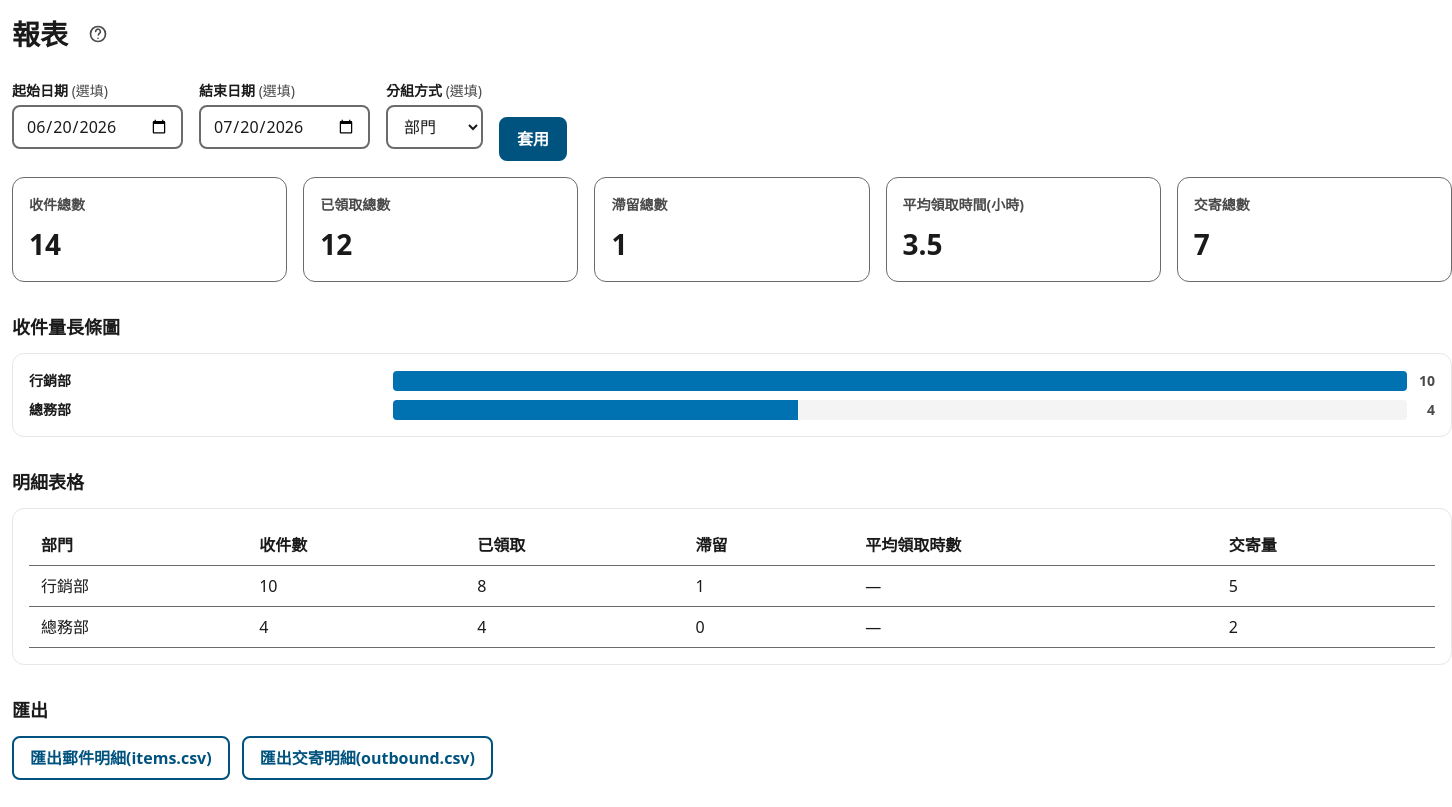
Test: ReportsPage › switching group_by re-queries the summary and re-renders the chart/table for the new grouping
Expected: the number of elements with class "reports-page__bar-row" is 2, [29,370,1435,391]; [29,399,1435,420]
Select "承運商" in the dropdown labelled "分組方式 (選填)" at x=434, y=127, box [386,105,483,149]
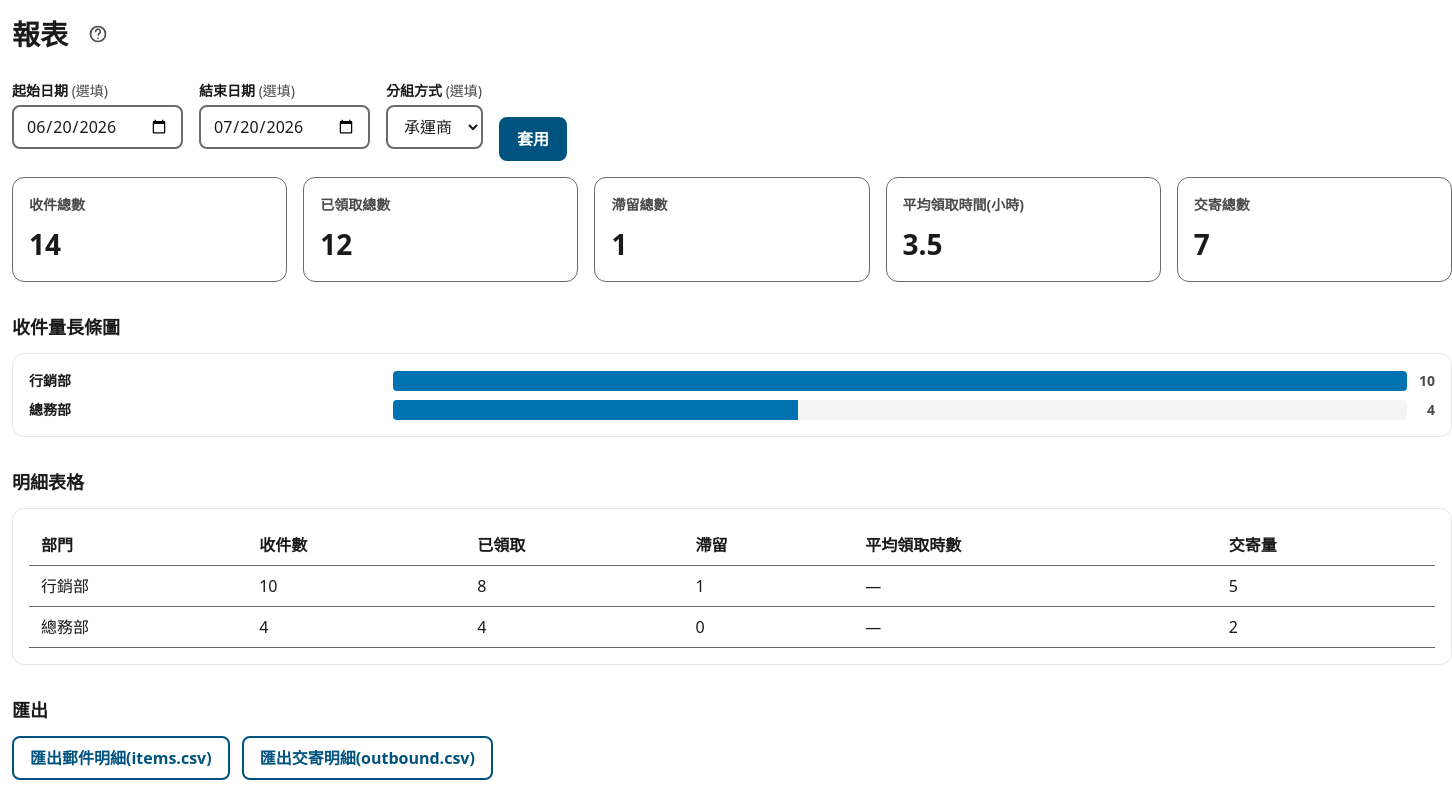
Submit the form, box [12,81,567,161]
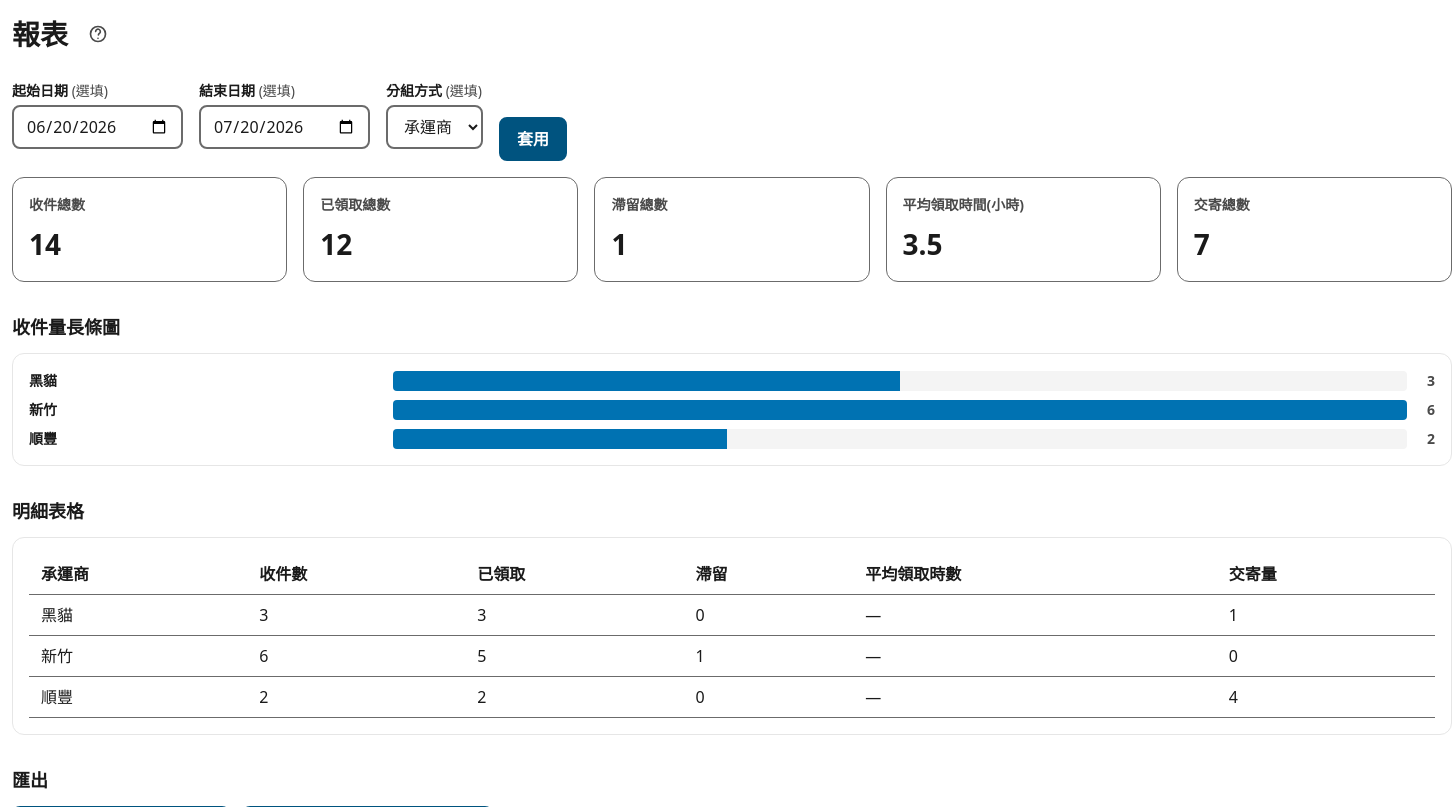
Expected: the number of elements with class "reports-page__bar-row" is 3, [29,370,1435,391]; [29,399,1435,420]; [29,428,1435,449]
Expected: the text "黑貓" is shown, [29,371,57,390]
